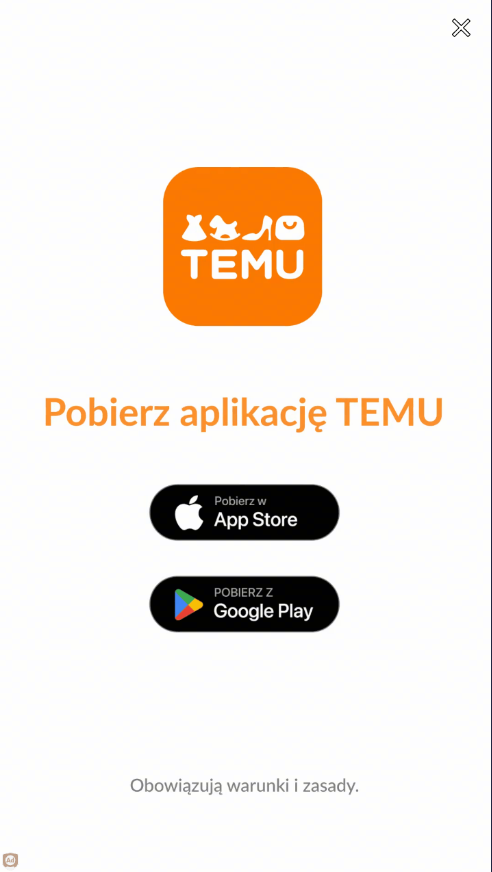close_button: (448, 15, 474, 42)
